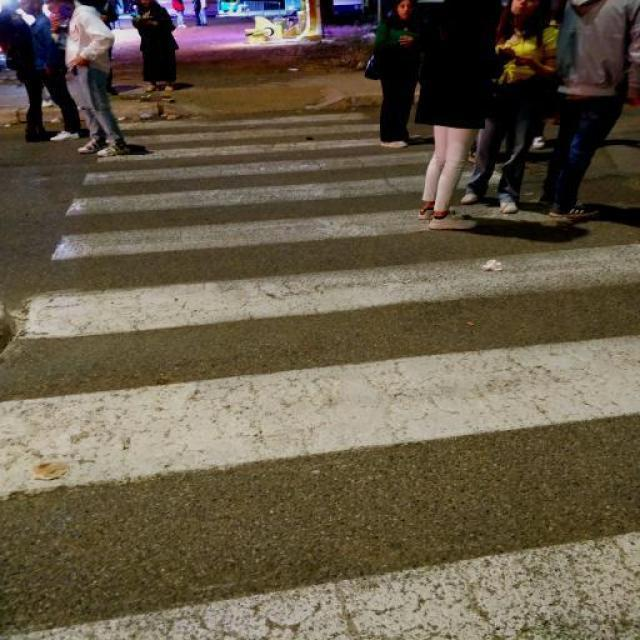crosswalk: (0, 110, 640, 637)
